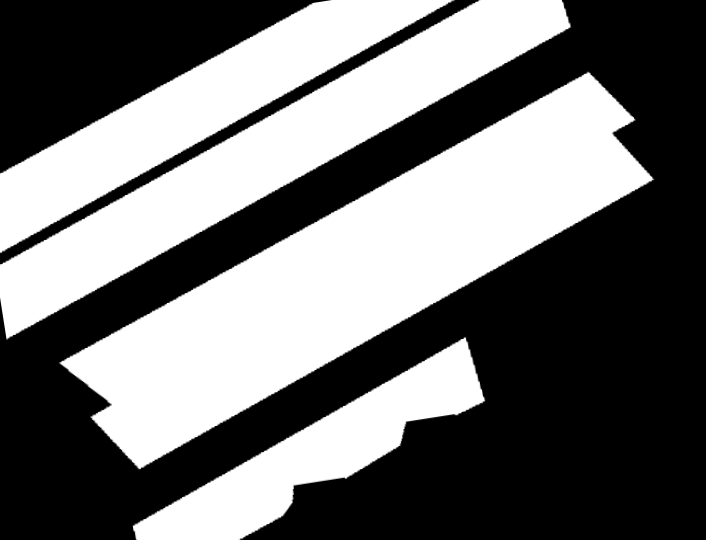parkingspot: (60, 72, 654, 469), (0, 0, 571, 339), (0, 0, 454, 253), (133, 337, 485, 540)
